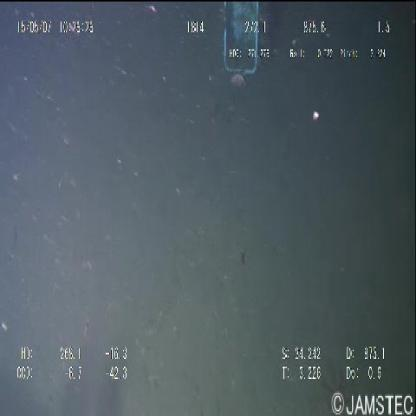Rác: (221, 2, 260, 79)
